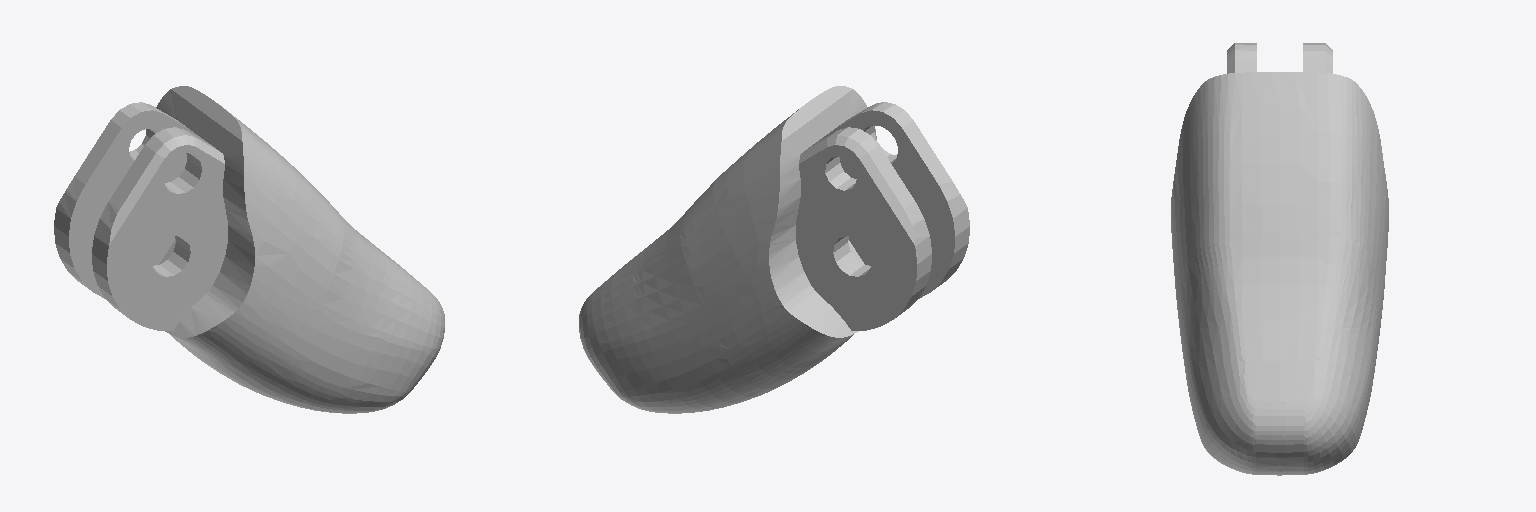
3 renders of one model, left to right at view 1: azimuth 30°, elevation 25°; view 2: azimuth 150°, elevation 25°; view 3: azimuth 270°, elevation 25°, orthographic.
Parts seen in each view (by area): view 1: Link14_L; view 2: Link14_L; view 3: Link14_L.
Part boxes in pixels (x1,y1,x2,y2): Link14_L: (54, 86, 444, 413); Link14_L: (579, 86, 969, 413); Link14_L: (1171, 43, 1388, 475).
Bounding box in the file's own units: 0.0273 × 0.0244 × 0.0147.